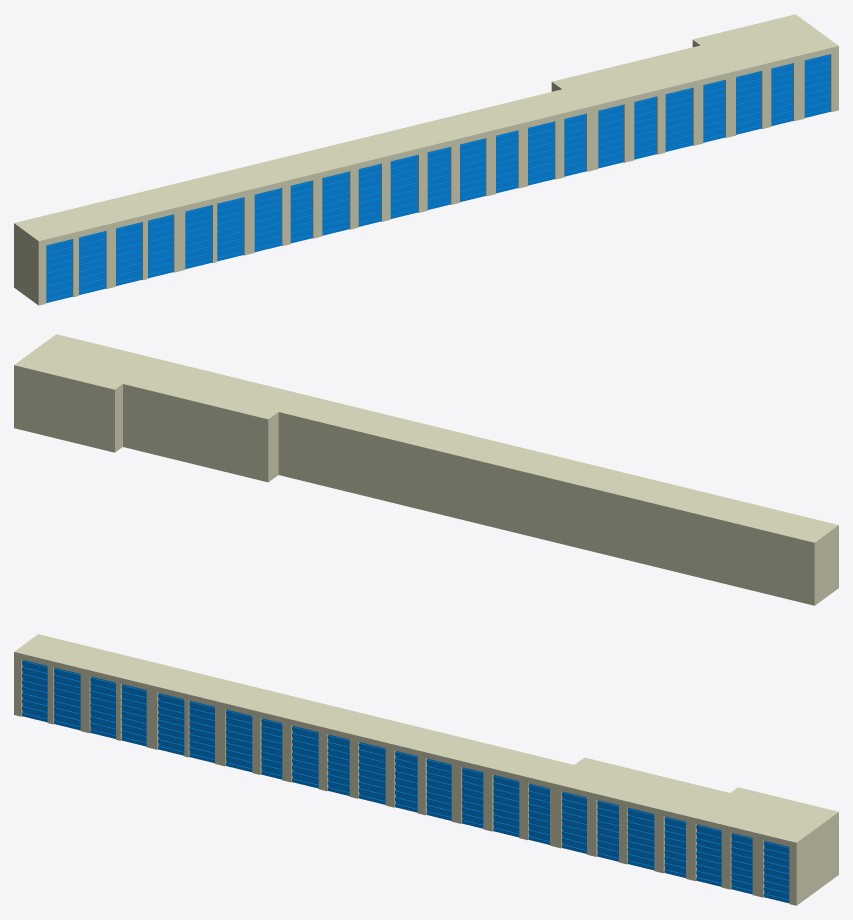
The model's file is cantontest7.gltf.
The picture shows the model from 3 angles, top to bottom: view 1: azimuth 30°, elevation 25°; view 2: azimuth 150°, elevation 25°; view 3: azimuth 330°, elevation 25°; orthographic projection. The views are drawn at different scales.
Visible parts, largest first — view 1: Plane.001, Plane, Plane.008, Plane.020, Plane.012, Plane.010, Plane.006, Plane.007, Plane.024, Plane.004, Plane.016, Plane.003 (+13 smaller); view 2: Plane, Plane.001; view 3: Plane.001, Plane, Plane.012, Plane.020, Plane.006, Plane.016, Plane.004, Plane.008, Plane.010, Plane.024, Plane.003, Plane.007 (+13 smaller).
Part boxes in pixels (x1=…): Plane.001: x1=14, y1=14, x2=838, y2=246; Plane: x1=14, y1=45, x2=838, y2=305; Plane.008: x1=254, y1=188, x2=281, y2=252; Plane.020: x1=665, y1=88, x2=692, y2=151; Plane.012: x1=390, y1=155, x2=417, y2=218; Plane.010: x1=322, y1=171, x2=349, y2=235; Plane.006: x1=185, y1=205, x2=212, y2=269; Plane.007: x1=217, y1=197, x2=243, y2=261; Plane.024: x1=804, y1=54, x2=830, y2=117; Plane.004: x1=79, y1=231, x2=105, y2=294; Plane.016: x1=528, y1=121, x2=554, y2=185; Plane.003: x1=46, y1=239, x2=72, y2=302; Plane: x1=14, y1=371, x2=838, y2=605; Plane.001: x1=14, y1=334, x2=838, y2=548; Plane.001: x1=14, y1=634, x2=838, y2=848; Plane: x1=14, y1=657, x2=838, y2=905; Plane.012: x1=358, y1=742, x2=385, y2=804; Plane.020: x1=627, y1=807, x2=654, y2=870; Plane.006: x1=158, y1=693, x2=184, y2=755; Plane.016: x1=493, y1=775, x2=519, y2=837; Plane.004: x1=54, y1=667, x2=80, y2=730; Plane.008: x1=226, y1=709, x2=252, y2=772; Plane.010: x1=292, y1=726, x2=318, y2=788; Plane.024: x1=763, y1=841, x2=789, y2=903; Plane.003: x1=22, y1=660, x2=47, y2=722; Plane.007: x1=189, y1=701, x2=214, y2=763.
Bounding box in the file's own units: 126 × 9.74 × 11.86.
